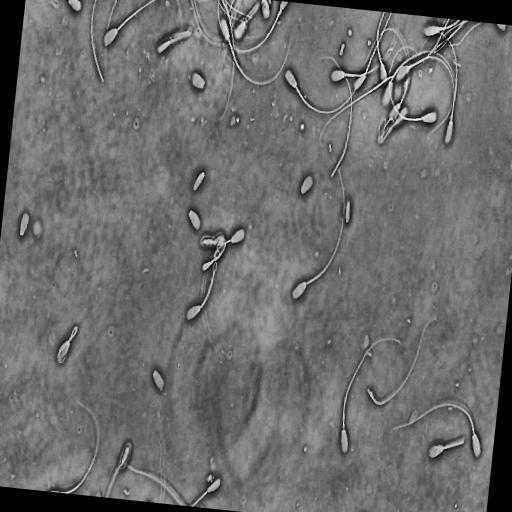coiled-tail: (201, 236, 227, 272), (200, 262, 217, 308), (203, 238, 226, 270), (57, 327, 77, 361), (160, 32, 190, 43), (444, 440, 464, 448), (214, 248, 217, 259)
loose-head: (148, 365, 167, 399), (184, 206, 203, 236), (297, 171, 316, 200), (187, 68, 208, 94), (16, 207, 32, 240), (190, 167, 208, 196), (343, 197, 353, 227)
loose-tail: (365, 314, 439, 409), (317, 52, 355, 182), (90, 0, 104, 84)
normal: (286, 154, 347, 306), (339, 334, 404, 457), (347, 24, 414, 124), (200, 226, 247, 364), (388, 401, 483, 464), (218, 14, 294, 88), (394, 53, 458, 140), (418, 30, 459, 148), (283, 63, 368, 117), (388, 44, 438, 126), (101, 0, 161, 52), (183, 258, 221, 325), (52, 320, 81, 368), (156, 24, 195, 57), (424, 436, 467, 463)
